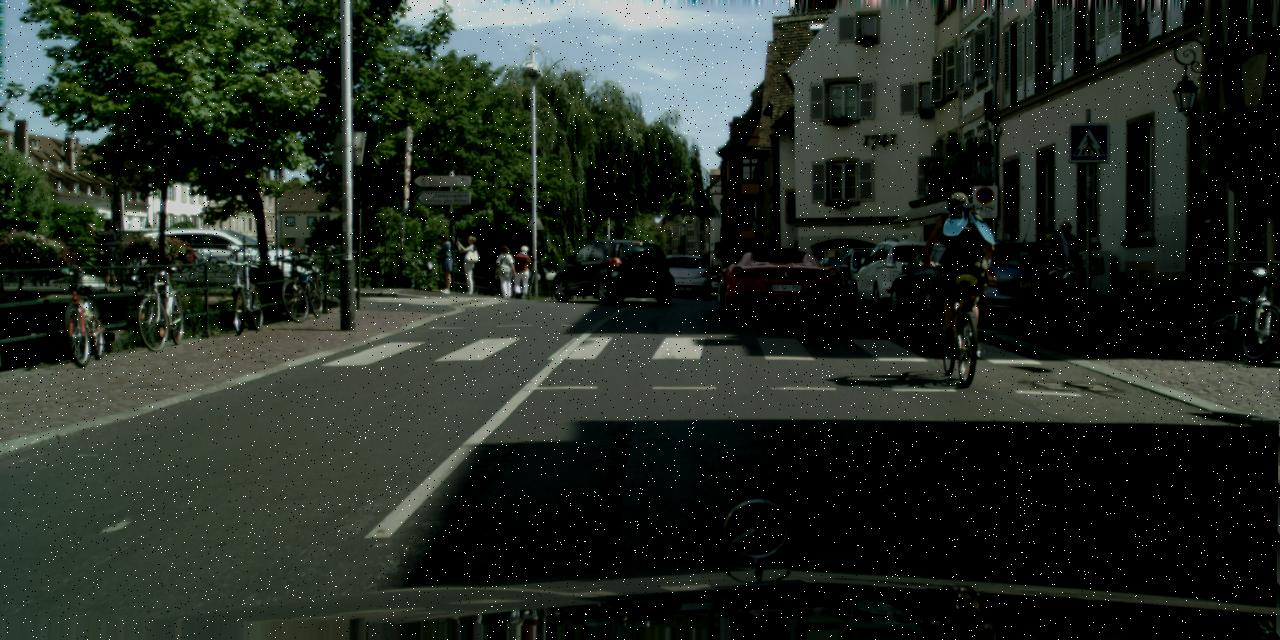ped: (930, 190, 995, 350), (1046, 220, 1084, 312), (95, 220, 124, 290), (432, 234, 457, 292), (458, 235, 482, 294), (511, 244, 533, 298), (494, 244, 516, 297)
